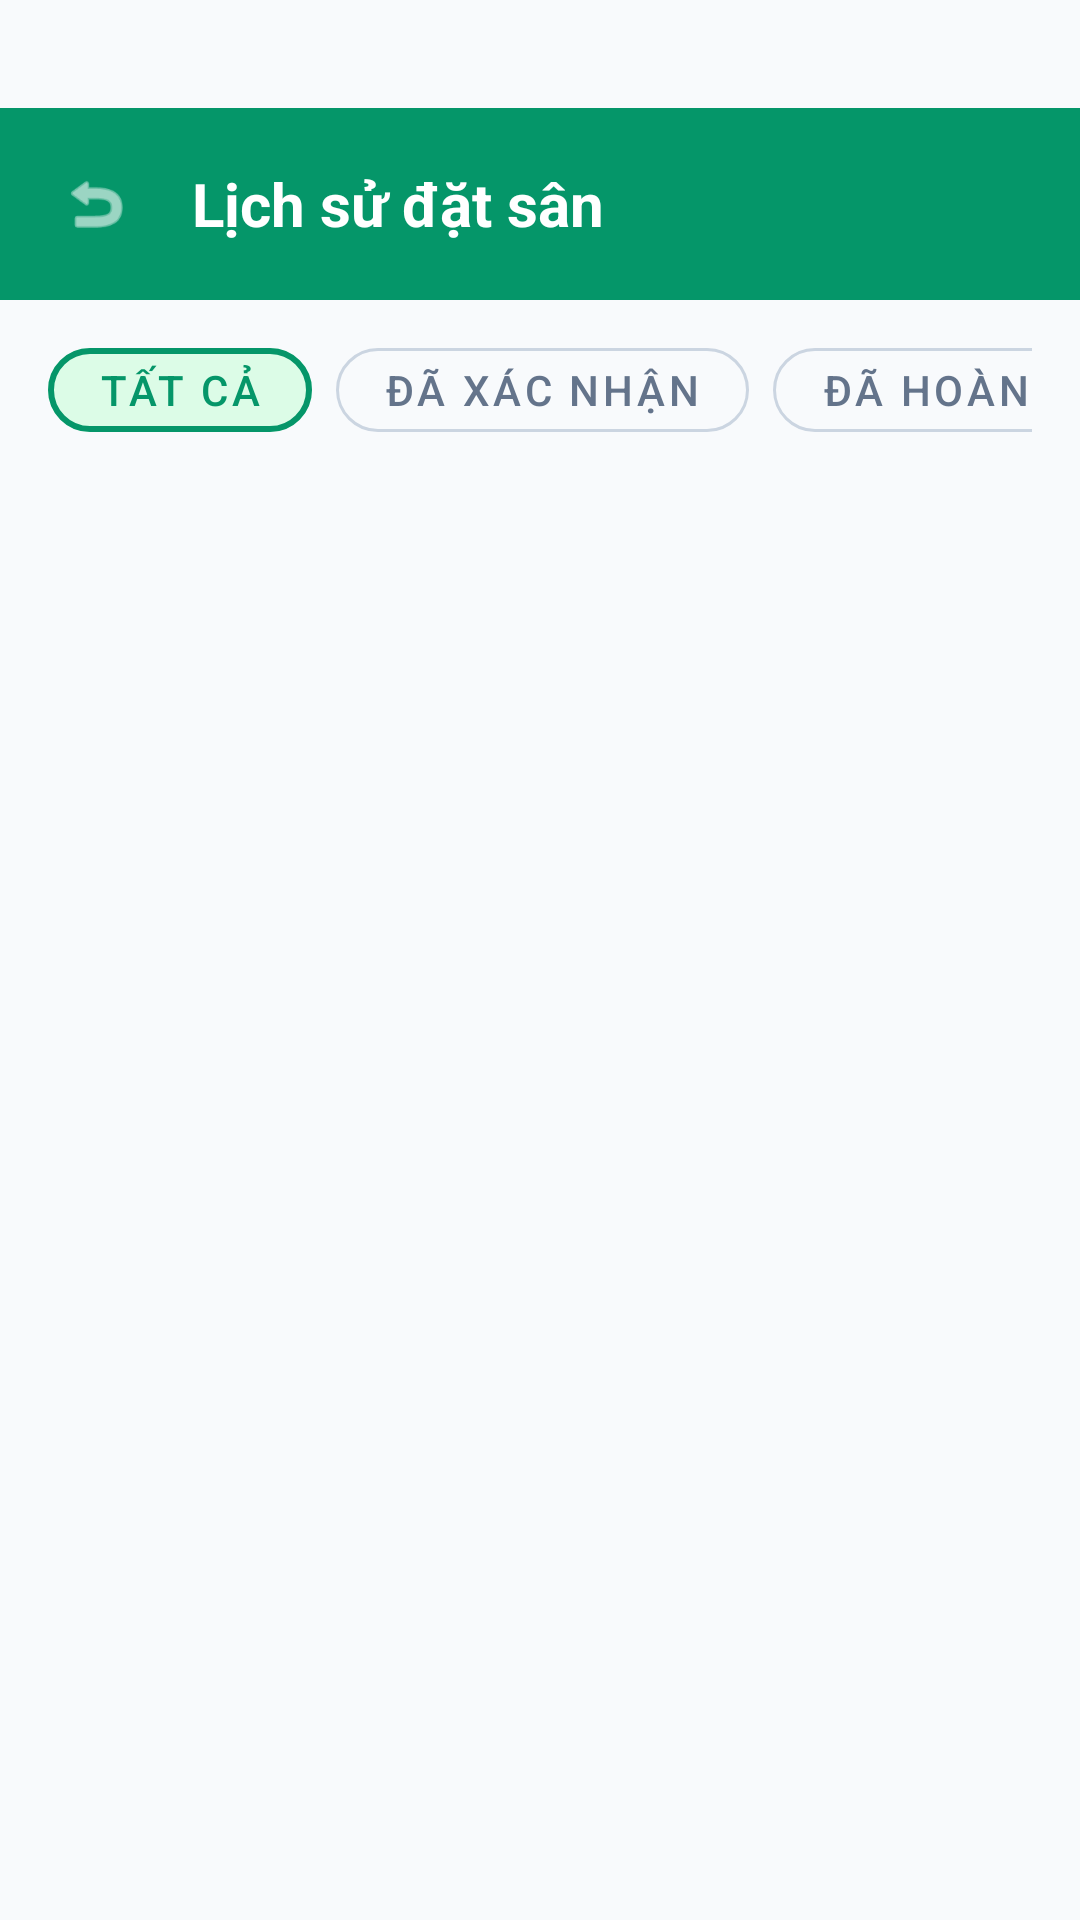

Named icons in this screenshot (1080w x 1920h) and their bounding boxes, (x1, y1, x2, y2):
revert: (71, 181, 123, 228)
